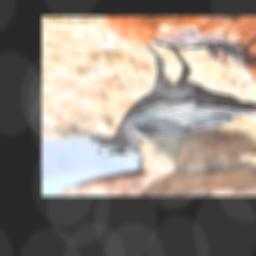Crow: (95, 39, 256, 159)
